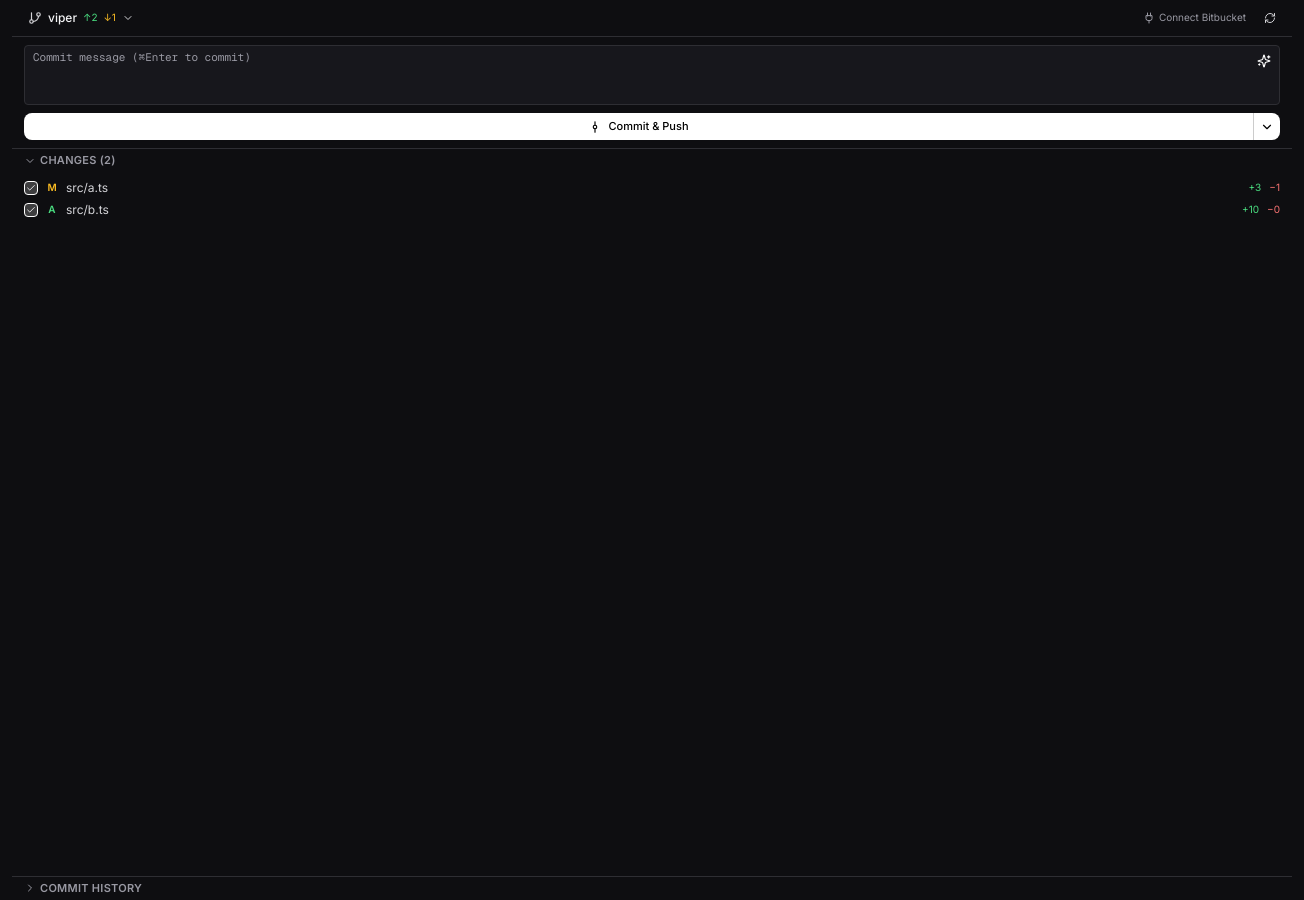
it: SourceControlView › surfaces a generation error as feedback
Expected: the button with test id "scm-file-src/a.ts" is shown, [24,181,58,195]
What coordinates should you click on to do the following:
click the button with test id "scm-generate"
I would click on:
 (1264, 61)
Its box is [1254,51,1274,71].
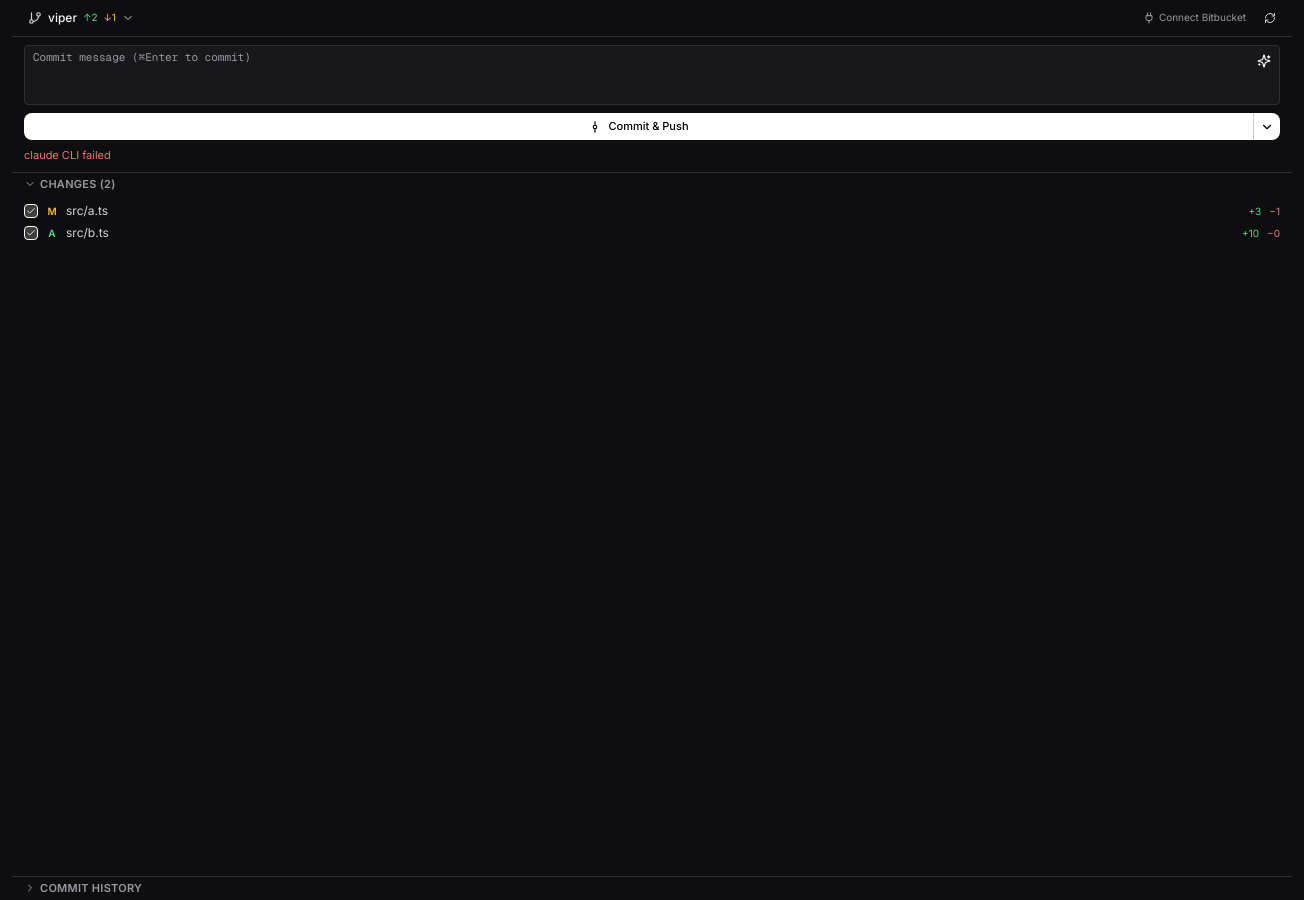
Now the text with test id "scm-feedback" reads "claude CLI failed", box [24,148,111,162]
